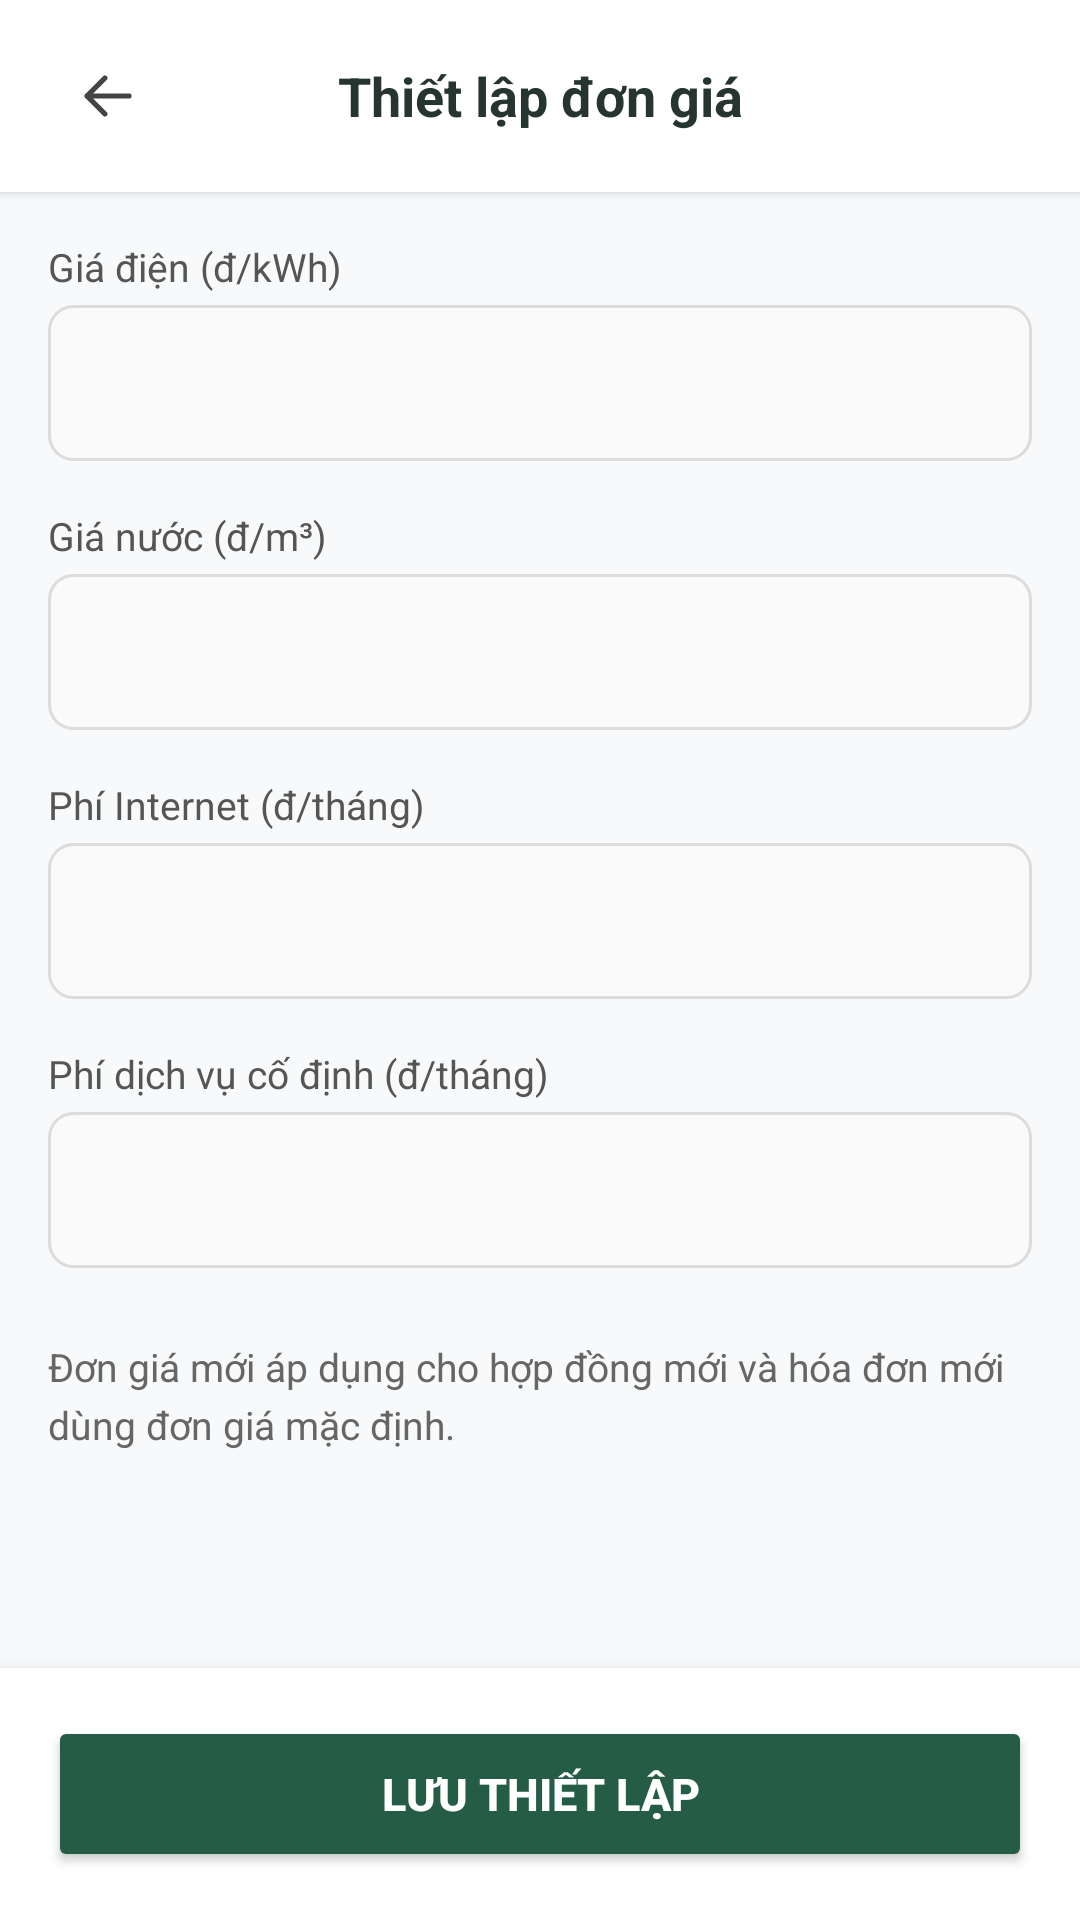

Locate icon controls on the screen. Image size 1080 x 1920, boxes as (x1, y1, x2, y2).
Quay lại: (84, 75, 132, 117)
